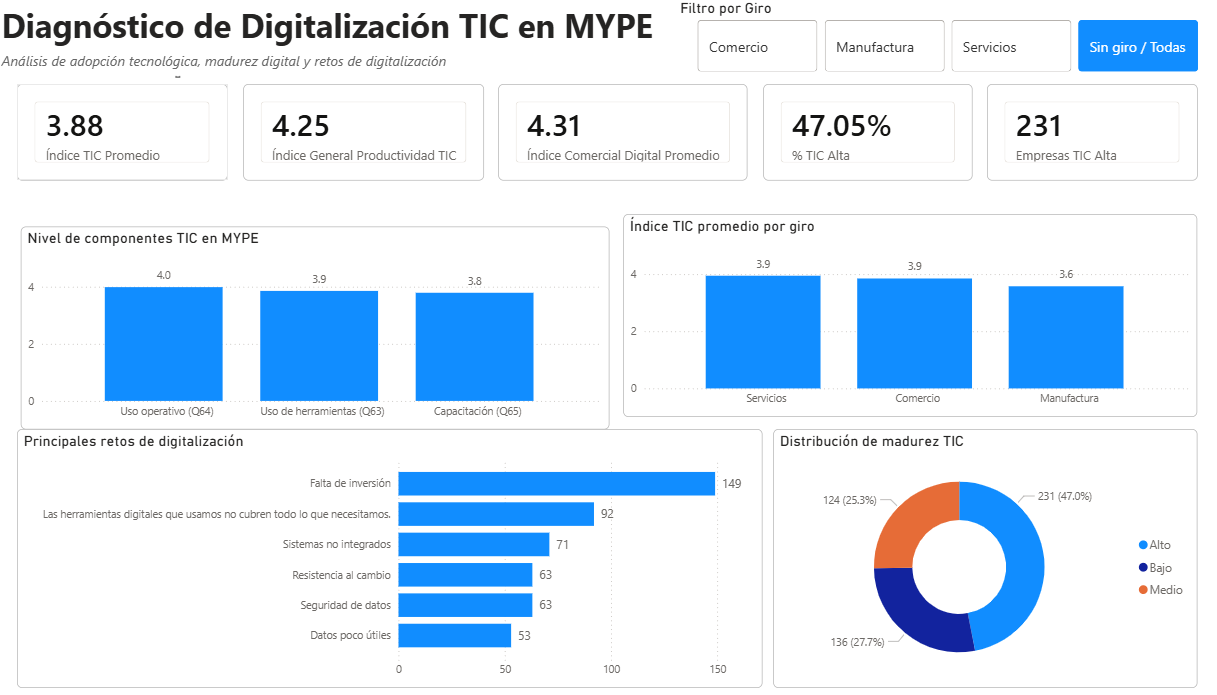

What the dashboard file says about the page in this screenshot:
{"tool":"powerbi","page":{"name":"DB1 - Digitalización TIC","canvas":[1400,800],"ordinal":0},"visuals":[{"type":"cardVisual","fields":{"Data":["Fact_Encuestas_Limpias.% TIC Alta"]},"box":[875,96.5,239.1,110.1],"z":0},{"type":"cardVisual","fields":{"Data":["Fact_Encuestas_Limpias.Empresas TIC Alta"]},"box":[1131.8,96.5,240.5,110.1],"z":1000},{"type":"cardVisual","fields":{"Data":["Fact_Encuestas_Limpias.Índice Comercial Digital Promedio"]},"box":[573.4,96.5,285,110.1],"z":2000},{"type":"cardVisual","fields":{"Data":["Fact_Encuestas_Limpias.Índice General Productividad TIC"]},"box":[281.3,96.5,275,110.1],"z":3000},{"type":"cardVisual","fields":{"Data":["Fact_Encuestas_Limpias.Índice TIC Promedio"]},"box":[23.1,96.5,240.5,110.1],"z":4000},{"type":"clusteredColumnChart","title":"Nivel de componentes TIC en MYPE","fields":{"Category":["TIC_Componentes.Indicador"],"Y":["Fact_Encuestas_Limpias.Valor TIC"]},"box":[27.2,259.5,672.6,232.3],"z":5000},{"type":"advancedSlicerVisual","title":"Filtro por Giro","fields":{"Values":["Bridge_GiroFiltro.Giro_Filtro"]},"box":[775.8,0,623.6,88.3],"z":6000},{"type":"donutChart","title":"Distribución de madurez TIC","fields":{"Category":["Fact_Encuestas_Limpias.Nivel_Madurez_TIC"],"Y":["Fact_Encuestas_Limpias.Total Encuestas"]},"box":[887.2,491.9,485.1,296.2],"z":7000},{"type":"clusteredBarChart","title":"Principales retos de digitalización","fields":{"Category":["Fact_Encuestas_Limpias.Reto Digitalizacion Movil"],"Y":["Fact_Encuestas_Limpias.Total Encuestas"]},"box":[23.1,491.9,851.9,296.2],"z":8000},{"type":"clusteredColumnChart","title":"Índice TIC promedio por giro","fields":{"Category":["Fact_Encuestas_Limpias.Giro"],"Y":["Fact_Encuestas_Limpias.Índice TIC Promedio"]},"box":[716,245.1,656.3,232.3],"z":9000},{"type":"textbox","box":[0,0,775.8,72],"z":10000},{"type":"textbox","box":[0,54.3,555.7,34],"z":11000}]}

Visuals, with their boxes in screenshot pixels (x1, y1, x2, y2), scaled from the page's 1400x800 canvas onto the 1217x695 screenshot:
cardVisual - Fact_Encuestas_Limpias.% TIC Alta: {"x1": 761, "y1": 84, "x2": 968, "y2": 179}
cardVisual - Fact_Encuestas_Limpias.Empresas TIC Alta: {"x1": 984, "y1": 84, "x2": 1193, "y2": 179}
cardVisual - Fact_Encuestas_Limpias.Índice Comercial Digital Promedio: {"x1": 498, "y1": 84, "x2": 746, "y2": 179}
cardVisual - Fact_Encuestas_Limpias.Índice General Productividad TIC: {"x1": 245, "y1": 84, "x2": 484, "y2": 179}
cardVisual - Fact_Encuestas_Limpias.Índice TIC Promedio: {"x1": 20, "y1": 84, "x2": 229, "y2": 179}
"Nivel de componentes TIC en MYPE" clusteredColumnChart: {"x1": 24, "y1": 225, "x2": 608, "y2": 427}
"Filtro por Giro" advancedSlicerVisual: {"x1": 674, "y1": 0, "x2": 1216, "y2": 77}
"Distribución de madurez TIC" donutChart: {"x1": 771, "y1": 427, "x2": 1193, "y2": 685}
"Principales retos de digitalización" clusteredBarChart: {"x1": 20, "y1": 427, "x2": 761, "y2": 685}
"Índice TIC promedio por giro" clusteredColumnChart: {"x1": 622, "y1": 213, "x2": 1193, "y2": 415}
textbox: {"x1": 0, "y1": 0, "x2": 674, "y2": 63}
textbox: {"x1": 0, "y1": 47, "x2": 483, "y2": 77}
